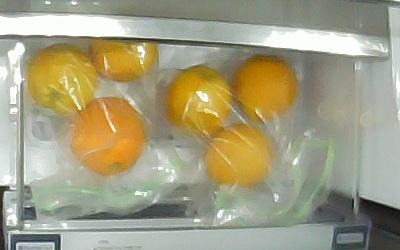orange_vinyl: (71, 97, 143, 175), (231, 54, 298, 124), (28, 44, 95, 113), (164, 65, 230, 135), (205, 125, 270, 187), (89, 40, 155, 83)
